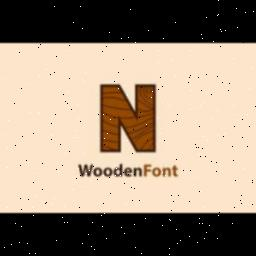n: (96, 78, 160, 160)
